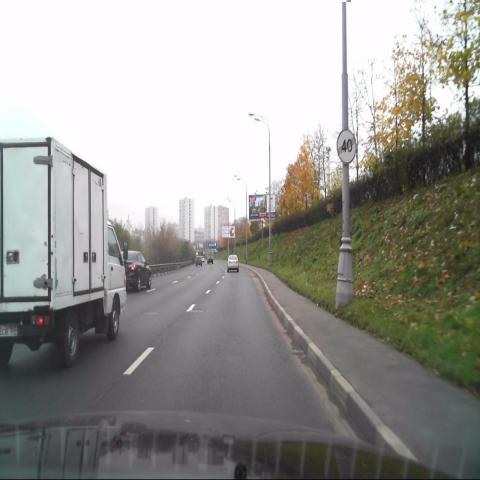3_25: (336, 127, 356, 164)
